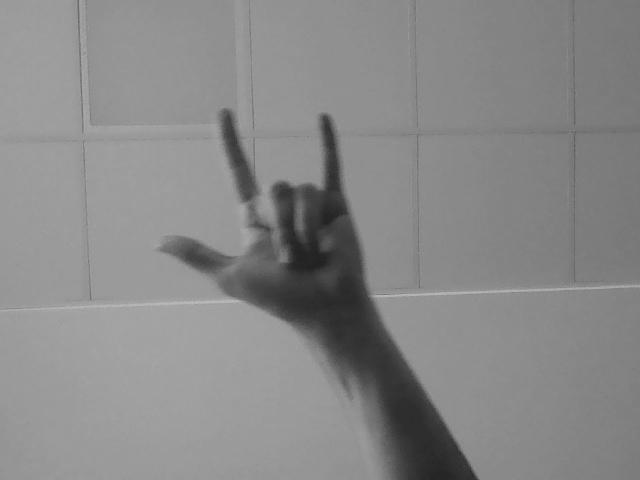I_Love_You: (146, 97, 434, 273)
